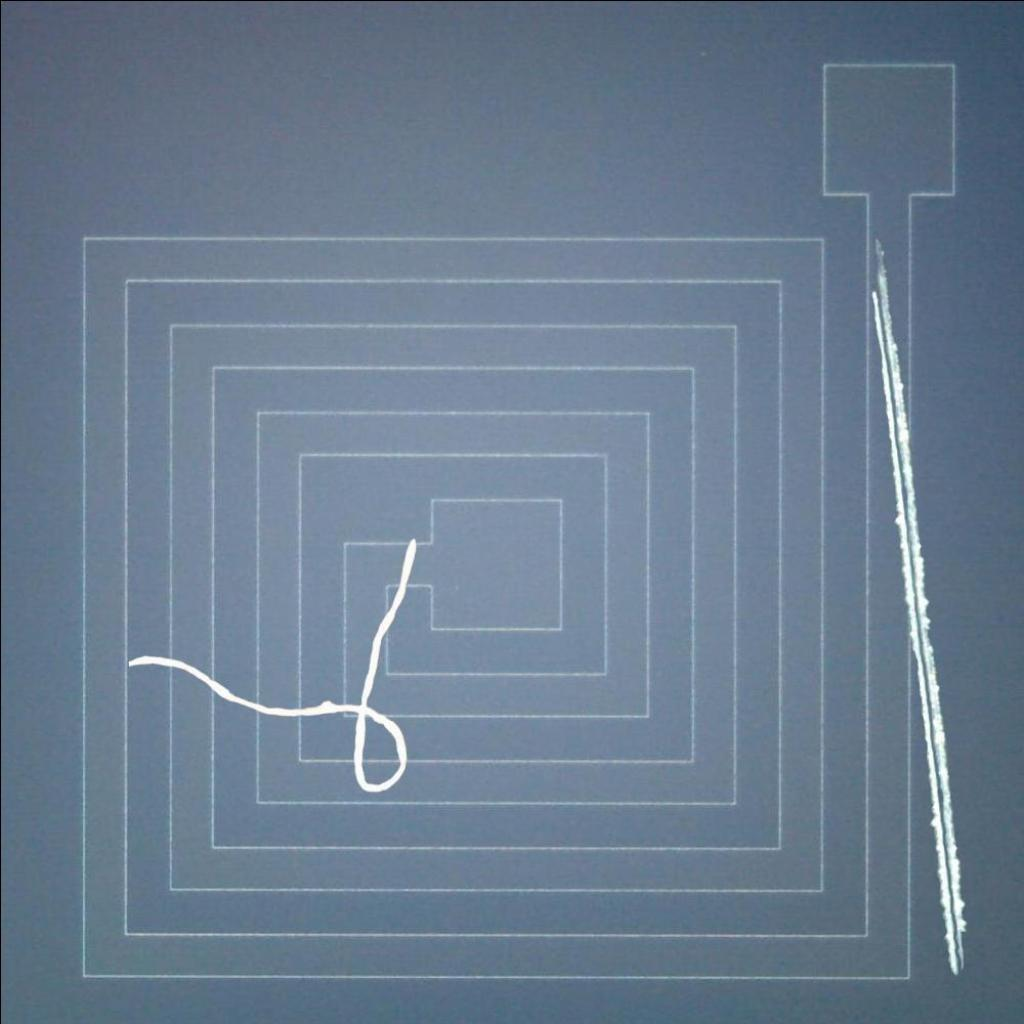line: (114, 531, 434, 807)
scratch: (854, 264, 977, 980)
